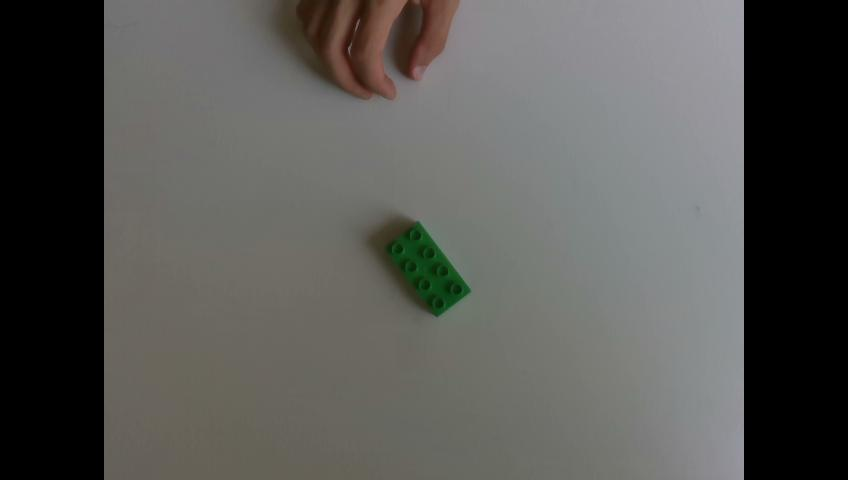4x2_green: (388, 221, 471, 317)
